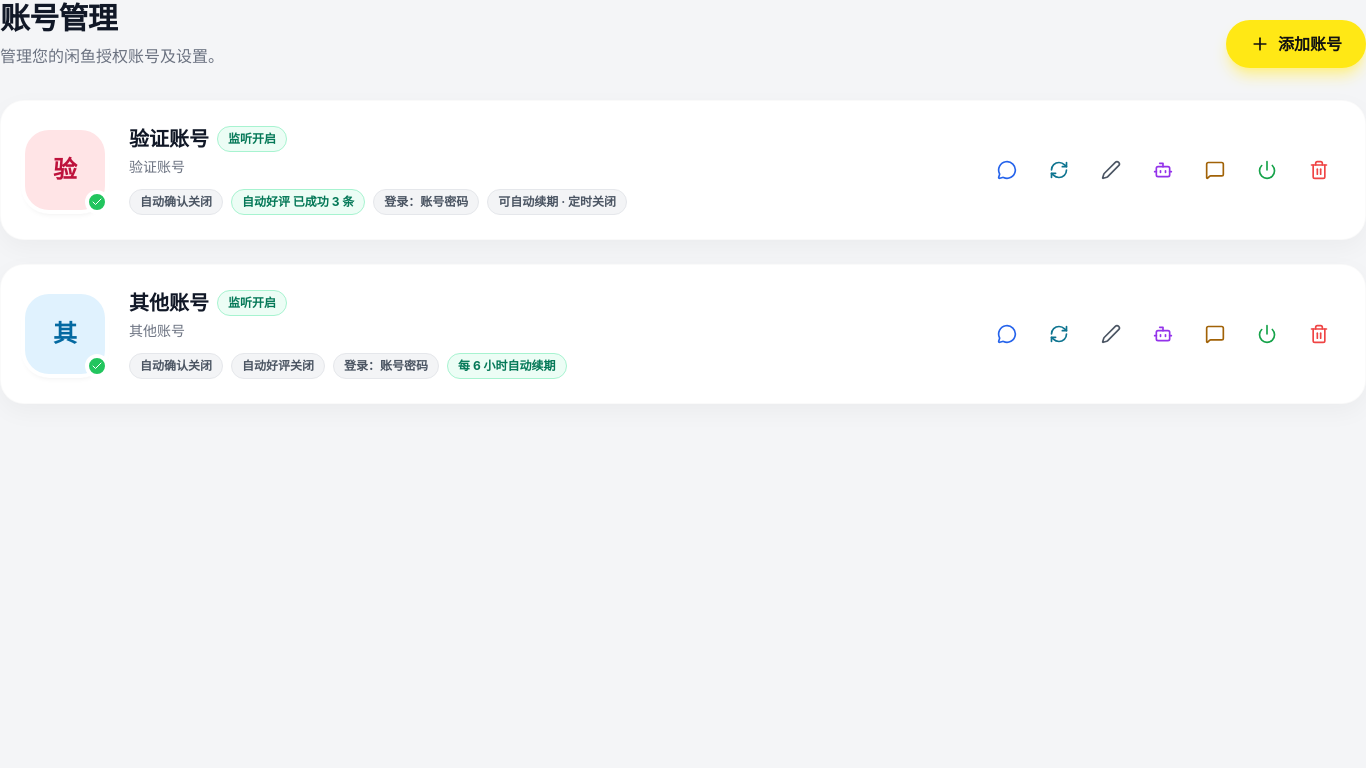
Scenario: AccountList session verification UI › shows the bound-device renewal state without exposing stored credentials
Expected: the element "验证账号" is shown, [0,100,1365,240]
Click the 1st button titled "编辑账号" at [1111, 170], box [1089,148,1133,192]
(page scrolled)
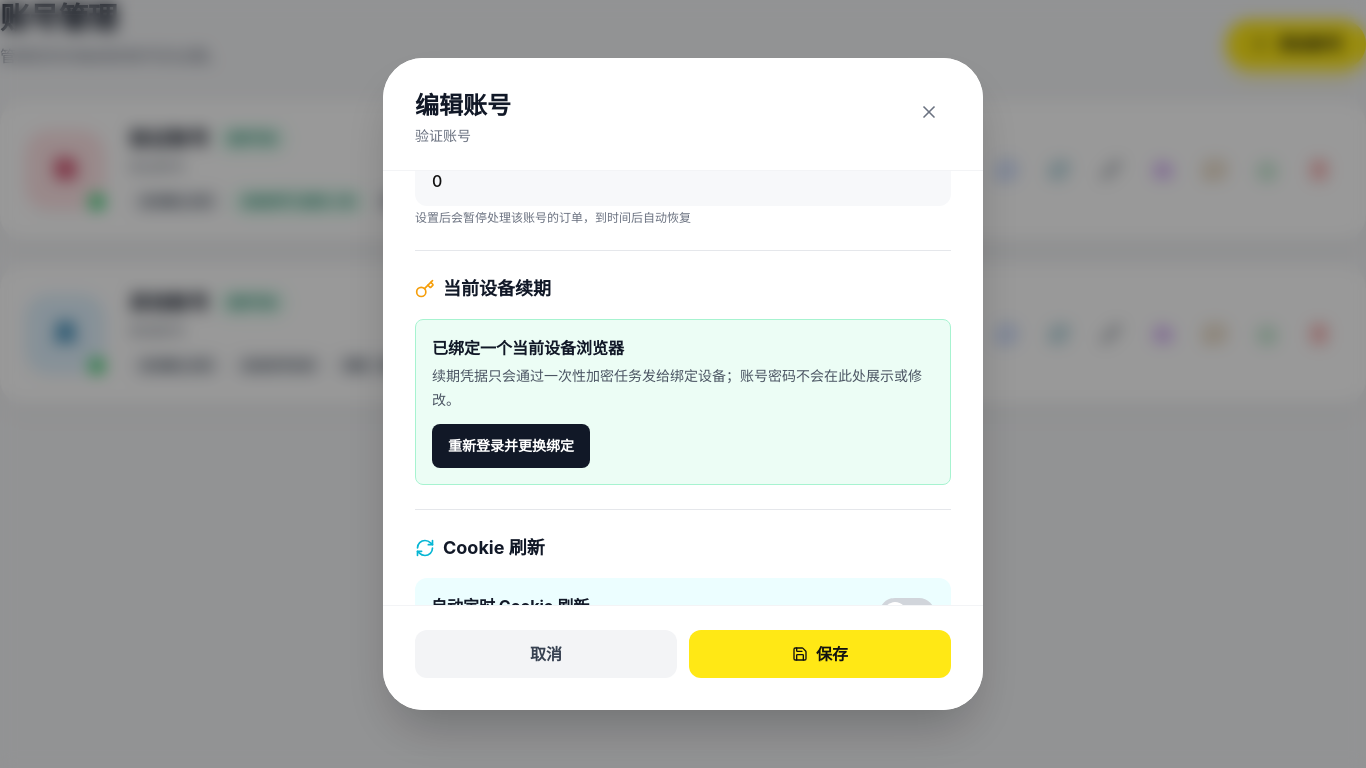
Expected: the text "已绑定一个当前设备浏览器" is shown, [432,338,624,358]
Expected: the text "续期凭据只会通过一次性加密任务发给绑定设备；账号密码不会在此处展示或修改。" is shown, [432,364,934,412]
